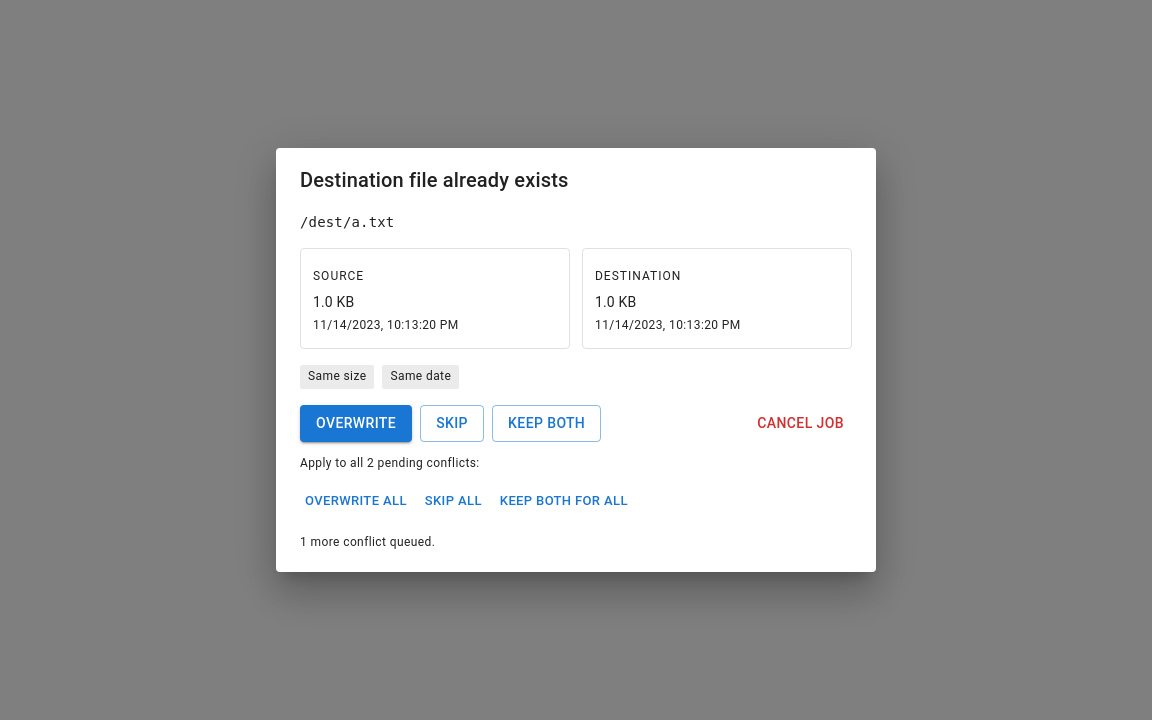
Test case: ConflictModal › queues additional conflicts and shows them in turn
Check: the text "/dest/a.txt" is shown, box [300,214,394,230]
Check: the text "1 more conflict queued." is shown, box [300,534,435,548]
Click the button "Skip".
click(452, 424)  # box [420,405,484,442]
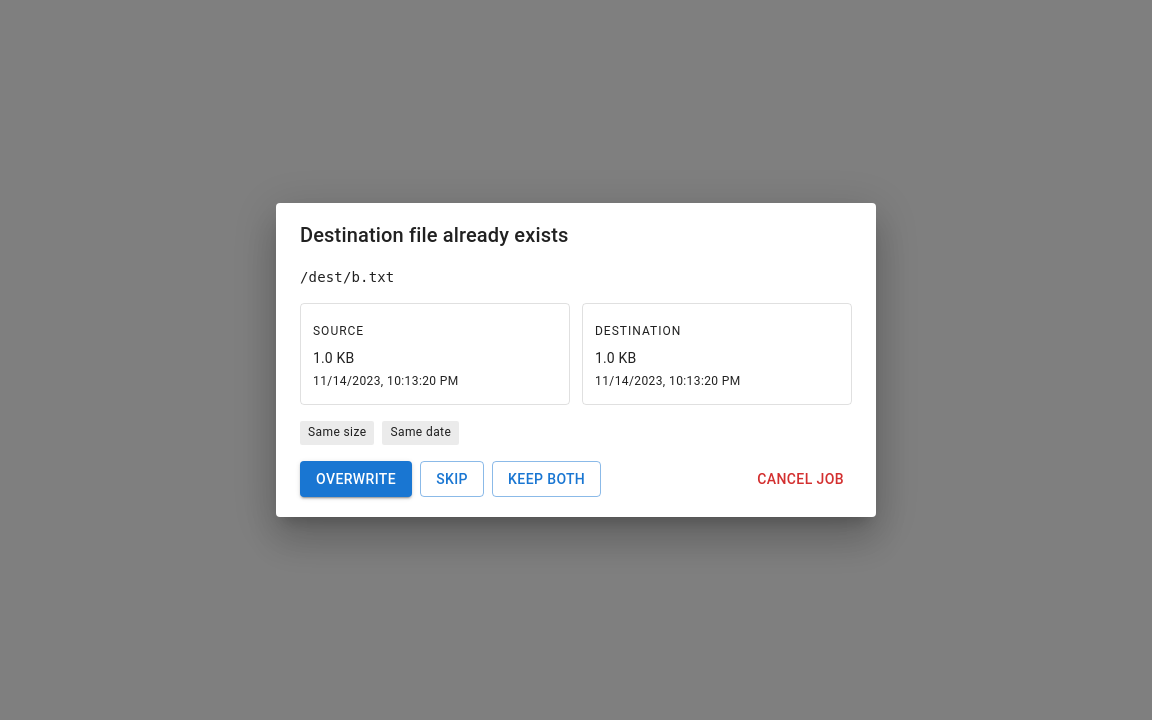
Check: the text "/dest/b.txt" is shown, box [300,269,394,285]
